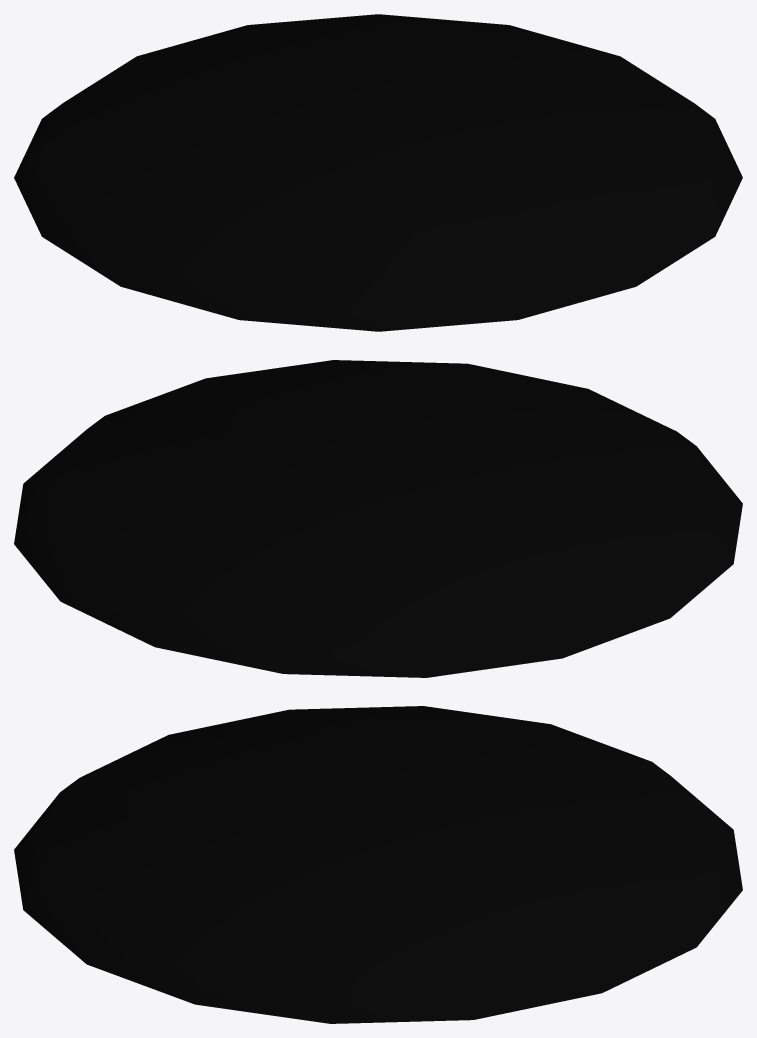
3 views of the same model, one above another, from view 1: azimuth 30°, elevation 25°; view 2: azimuth 150°, elevation 25°; view 3: azimuth 270°, elevation 25° (orthographic).
Parts seen in each view (by area): view 1: Joint_0_Object_0; view 2: Joint_0_Object_0; view 3: Joint_0_Object_0.
Part boxes in pixels (x1,y1,x2,y2): Joint_0_Object_0: [14, 14, 742, 331]; Joint_0_Object_0: [14, 360, 742, 677]; Joint_0_Object_0: [14, 706, 742, 1023].
Size of the model in its own units: 332 by 9.78 by 332.
1 material, 1 textured.
